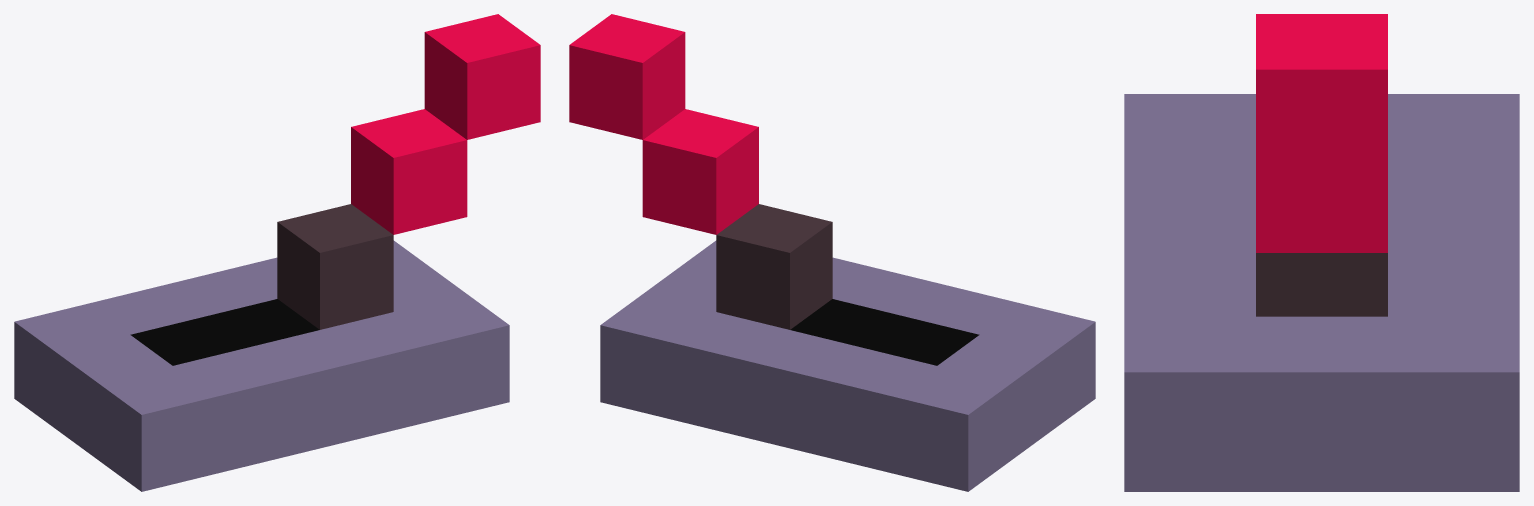
The model's file is lever_a_b_red_on.obj.
3 renders of one model, left to right at view 1: azimuth 30°, elevation 25°; view 2: azimuth 150°, elevation 25°; view 3: azimuth 270°, elevation 25°, orthographic. The views are drawn at different scales.
Bounding box in the file's own units: 0.6 × 0.4 × 0.3.
1 material, 1 textured.
